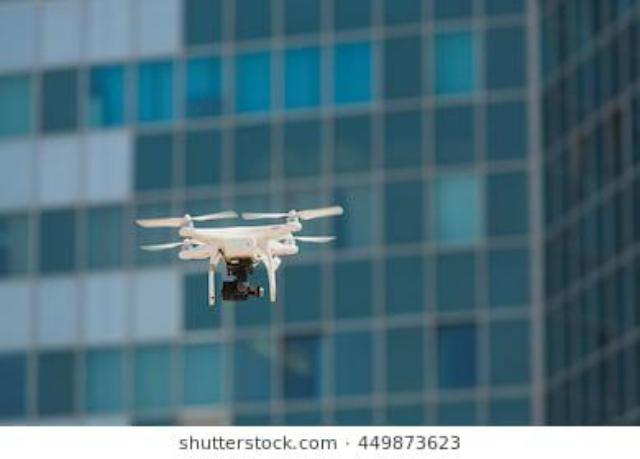drone: (126, 191, 360, 321)
